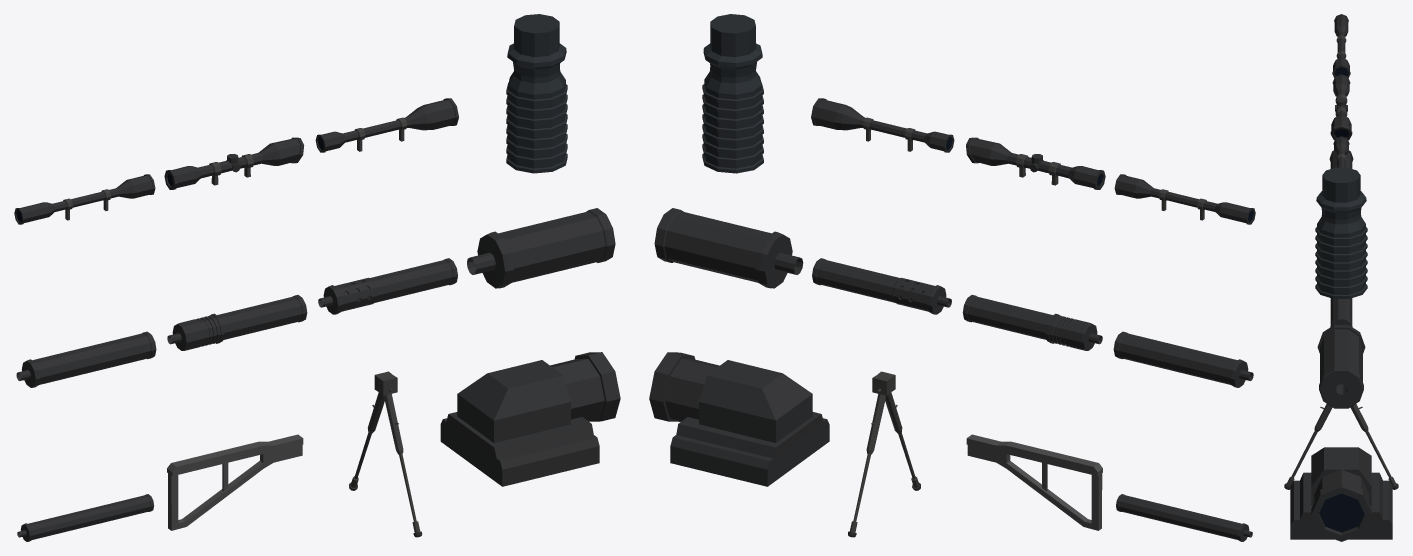
The picture shows the model from 3 angles, left to right: view 1: azimuth 30°, elevation 25°; view 2: azimuth 150°, elevation 25°; view 3: azimuth 270°, elevation 25°; orthographic projection. The views are drawn at different scales.
Visible parts, largest first — view 1: m11, m3, m7, m9, m5, m6, m4, m1, m2, m8, m0, m10; view 2: m11, m3, m7, m9, m5, m6, m4, m1, m2, m8, m0, m10; view 3: m11, m3, m7, m1, m10, m0, m6, m2, m4.
Part boxes in pixels (x1,y1,x2,y2): m11: (440,352,620,486); m3: (506,14,567,173); m7: (467,208,615,288); m9: (167,434,303,530); m5: (167,295,307,350); m6: (318,258,457,314); m4: (16,331,156,387); m1: (164,137,304,189); m2: (315,98,458,152); m8: (17,494,154,541); m0: (14,174,155,224); m10: (349,371,422,537); m11: (649,352,829,486); m3: (702,14,763,173); m7: (654,208,803,288); m9: (966,434,1102,530); m5: (962,295,1102,350); m6: (812,258,951,314); m4: (1113,331,1253,387); m1: (966,137,1105,189); m2: (811,98,954,152); m8: (1116,494,1252,541); m0: (1114,174,1255,224); m10: (848,371,920,537); m11: (1290,447,1392,541); m3: (1315,167,1367,298); m7: (1317,324,1365,408); m1: (1330,74,1352,140); m10: (1284,404,1398,489); m0: (1332,14,1350,77); m6: (1330,298,1352,326); m2: (1333,136,1349,167); m4: (1329,150,1353,168).
Bounding box in the file's own units: 4.45 × 3.3 × 0.9134.
